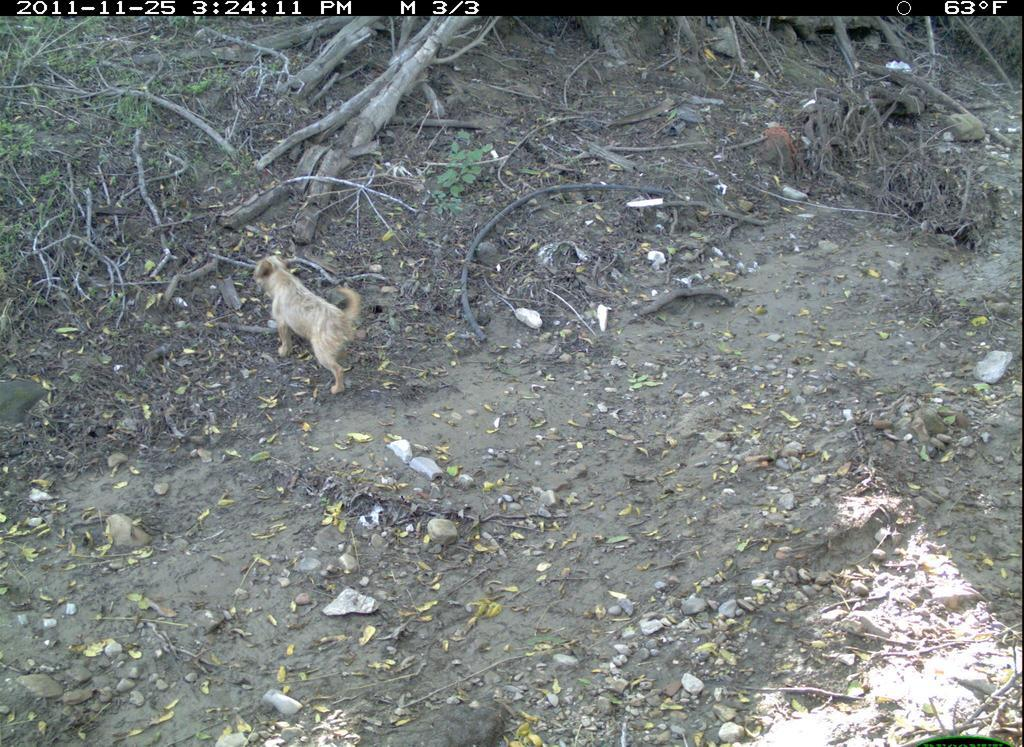dog: (244, 240, 383, 400)
